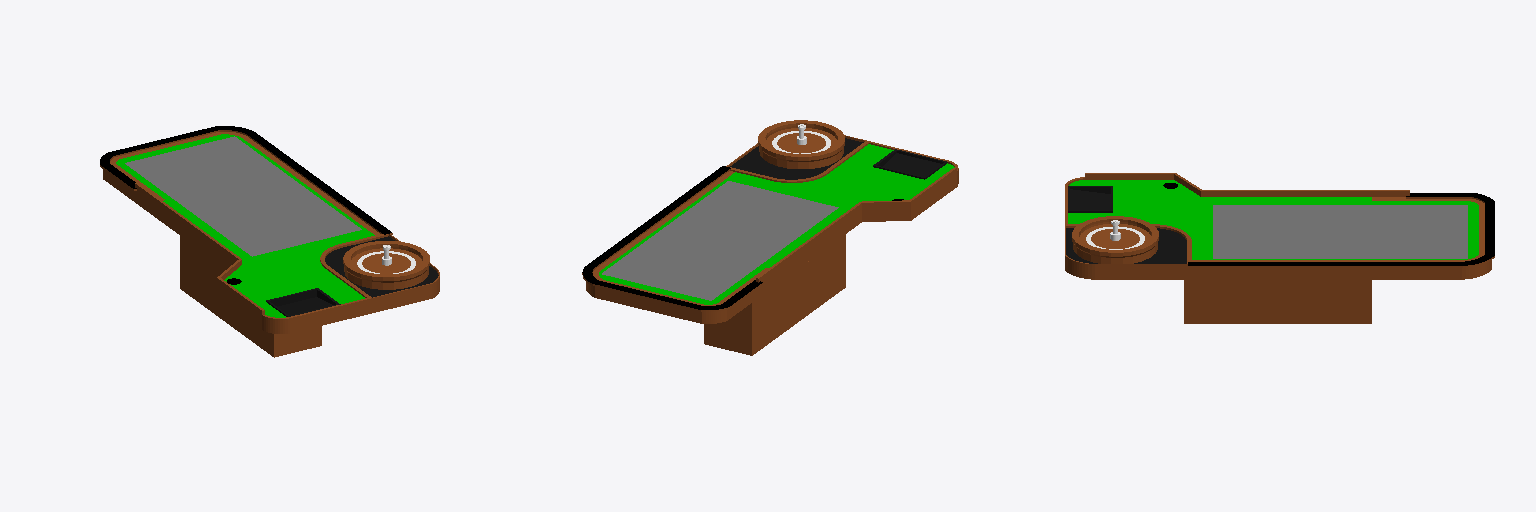
Rendered from Roulette.obj.
The picture shows the model from 3 angles: view 1: azimuth 30°, elevation 25°; view 2: azimuth 150°, elevation 25°; view 3: azimuth 270°, elevation 25°; orthographic projection.
Parts seen in each view (by area): view 1: Mesh1 Model; view 2: Mesh1 Model; view 3: Mesh1 Model.
Part boxes in pixels (bbox=[...]): Mesh1 Model: bbox=[100, 126, 439, 357]; Mesh1 Model: bbox=[582, 120, 958, 355]; Mesh1 Model: bbox=[1065, 173, 1494, 323].
Bounding box in the file's own units: 7689 × 4775 × 15754.